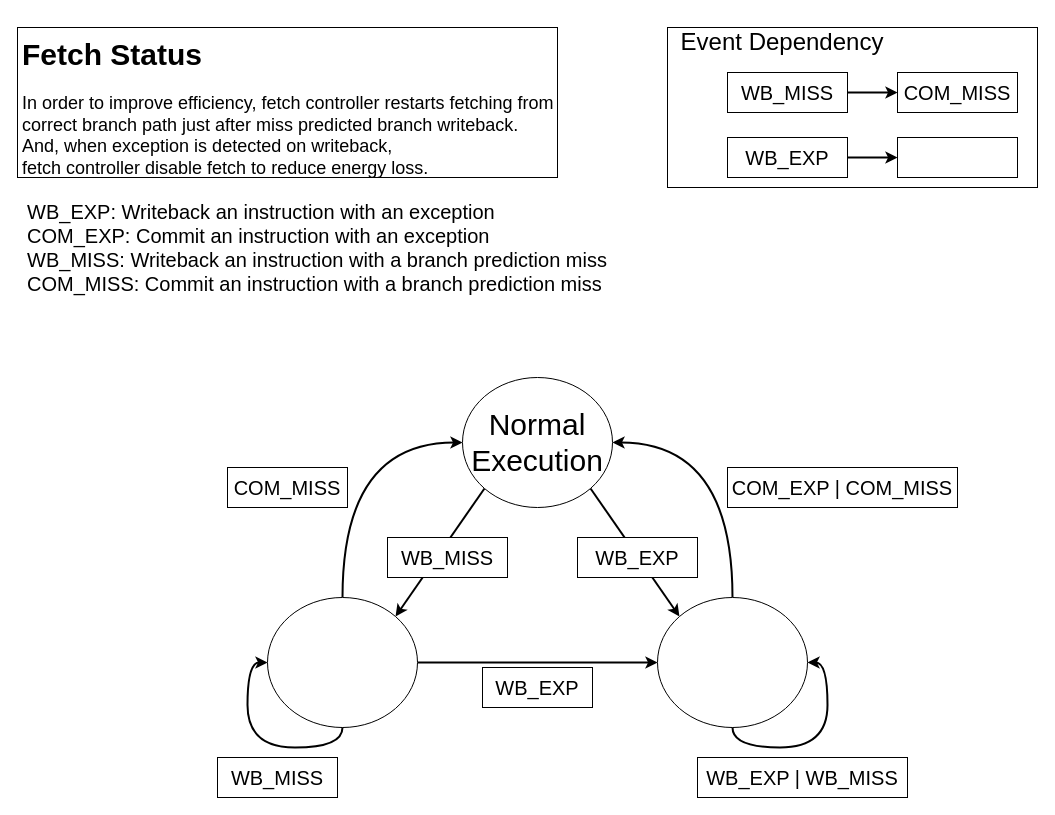
The diagram is 1055 pixels wide and 815 high, and some of its shapes have lost their labels. Here are the shapes that lost their labels. From the top down, the box of each, then its label:
(896, 136, 1018, 178): COM_EXP
(266, 596, 418, 728): Branch Commit Wait
(656, 596, 808, 728): Exception Commit Wait
